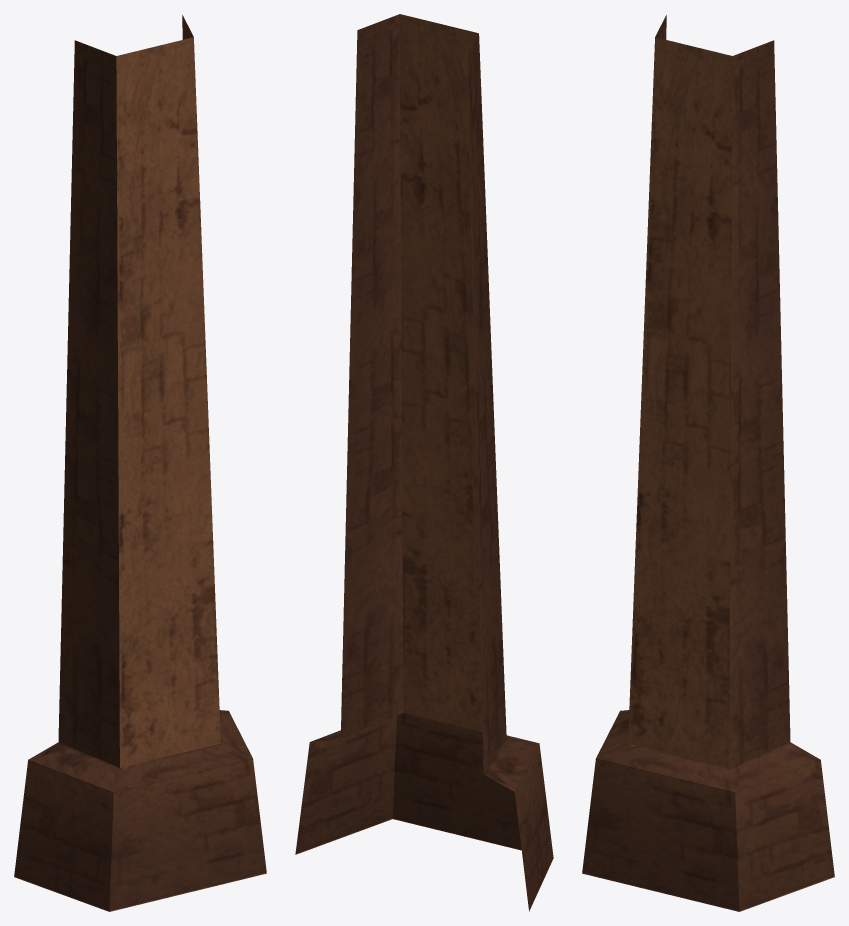
File: Pillar_Wall.fbx
3 views of the same model, side by side, from view 1: azimuth 30°, elevation 25°; view 2: azimuth 150°, elevation 25°; view 3: azimuth 330°, elevation 25° (orthographic). The views are drawn at different scales.
Visible parts, largest first — view 1: Pillar_Wall; view 2: Pillar_Wall; view 3: Pillar_Wall.
Boxes of the visible parts, <box> form: Pillar_Wall: <box>14,15,266,911</box>; Pillar_Wall: <box>295,14,553,911</box>; Pillar_Wall: <box>582,15,834,911</box>.
Bounding box in the file's own units: 38.55 × 132 × 17.43.
